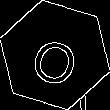O_N: (26, 24, 84, 86)
